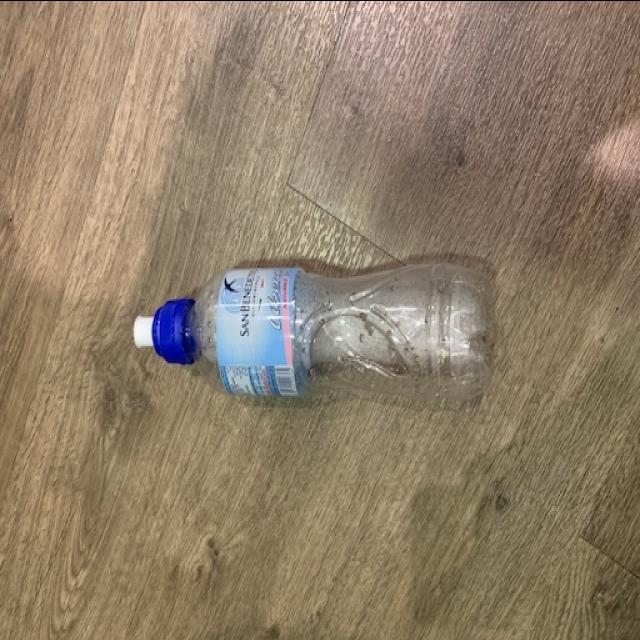PET: (131, 262, 495, 396)
